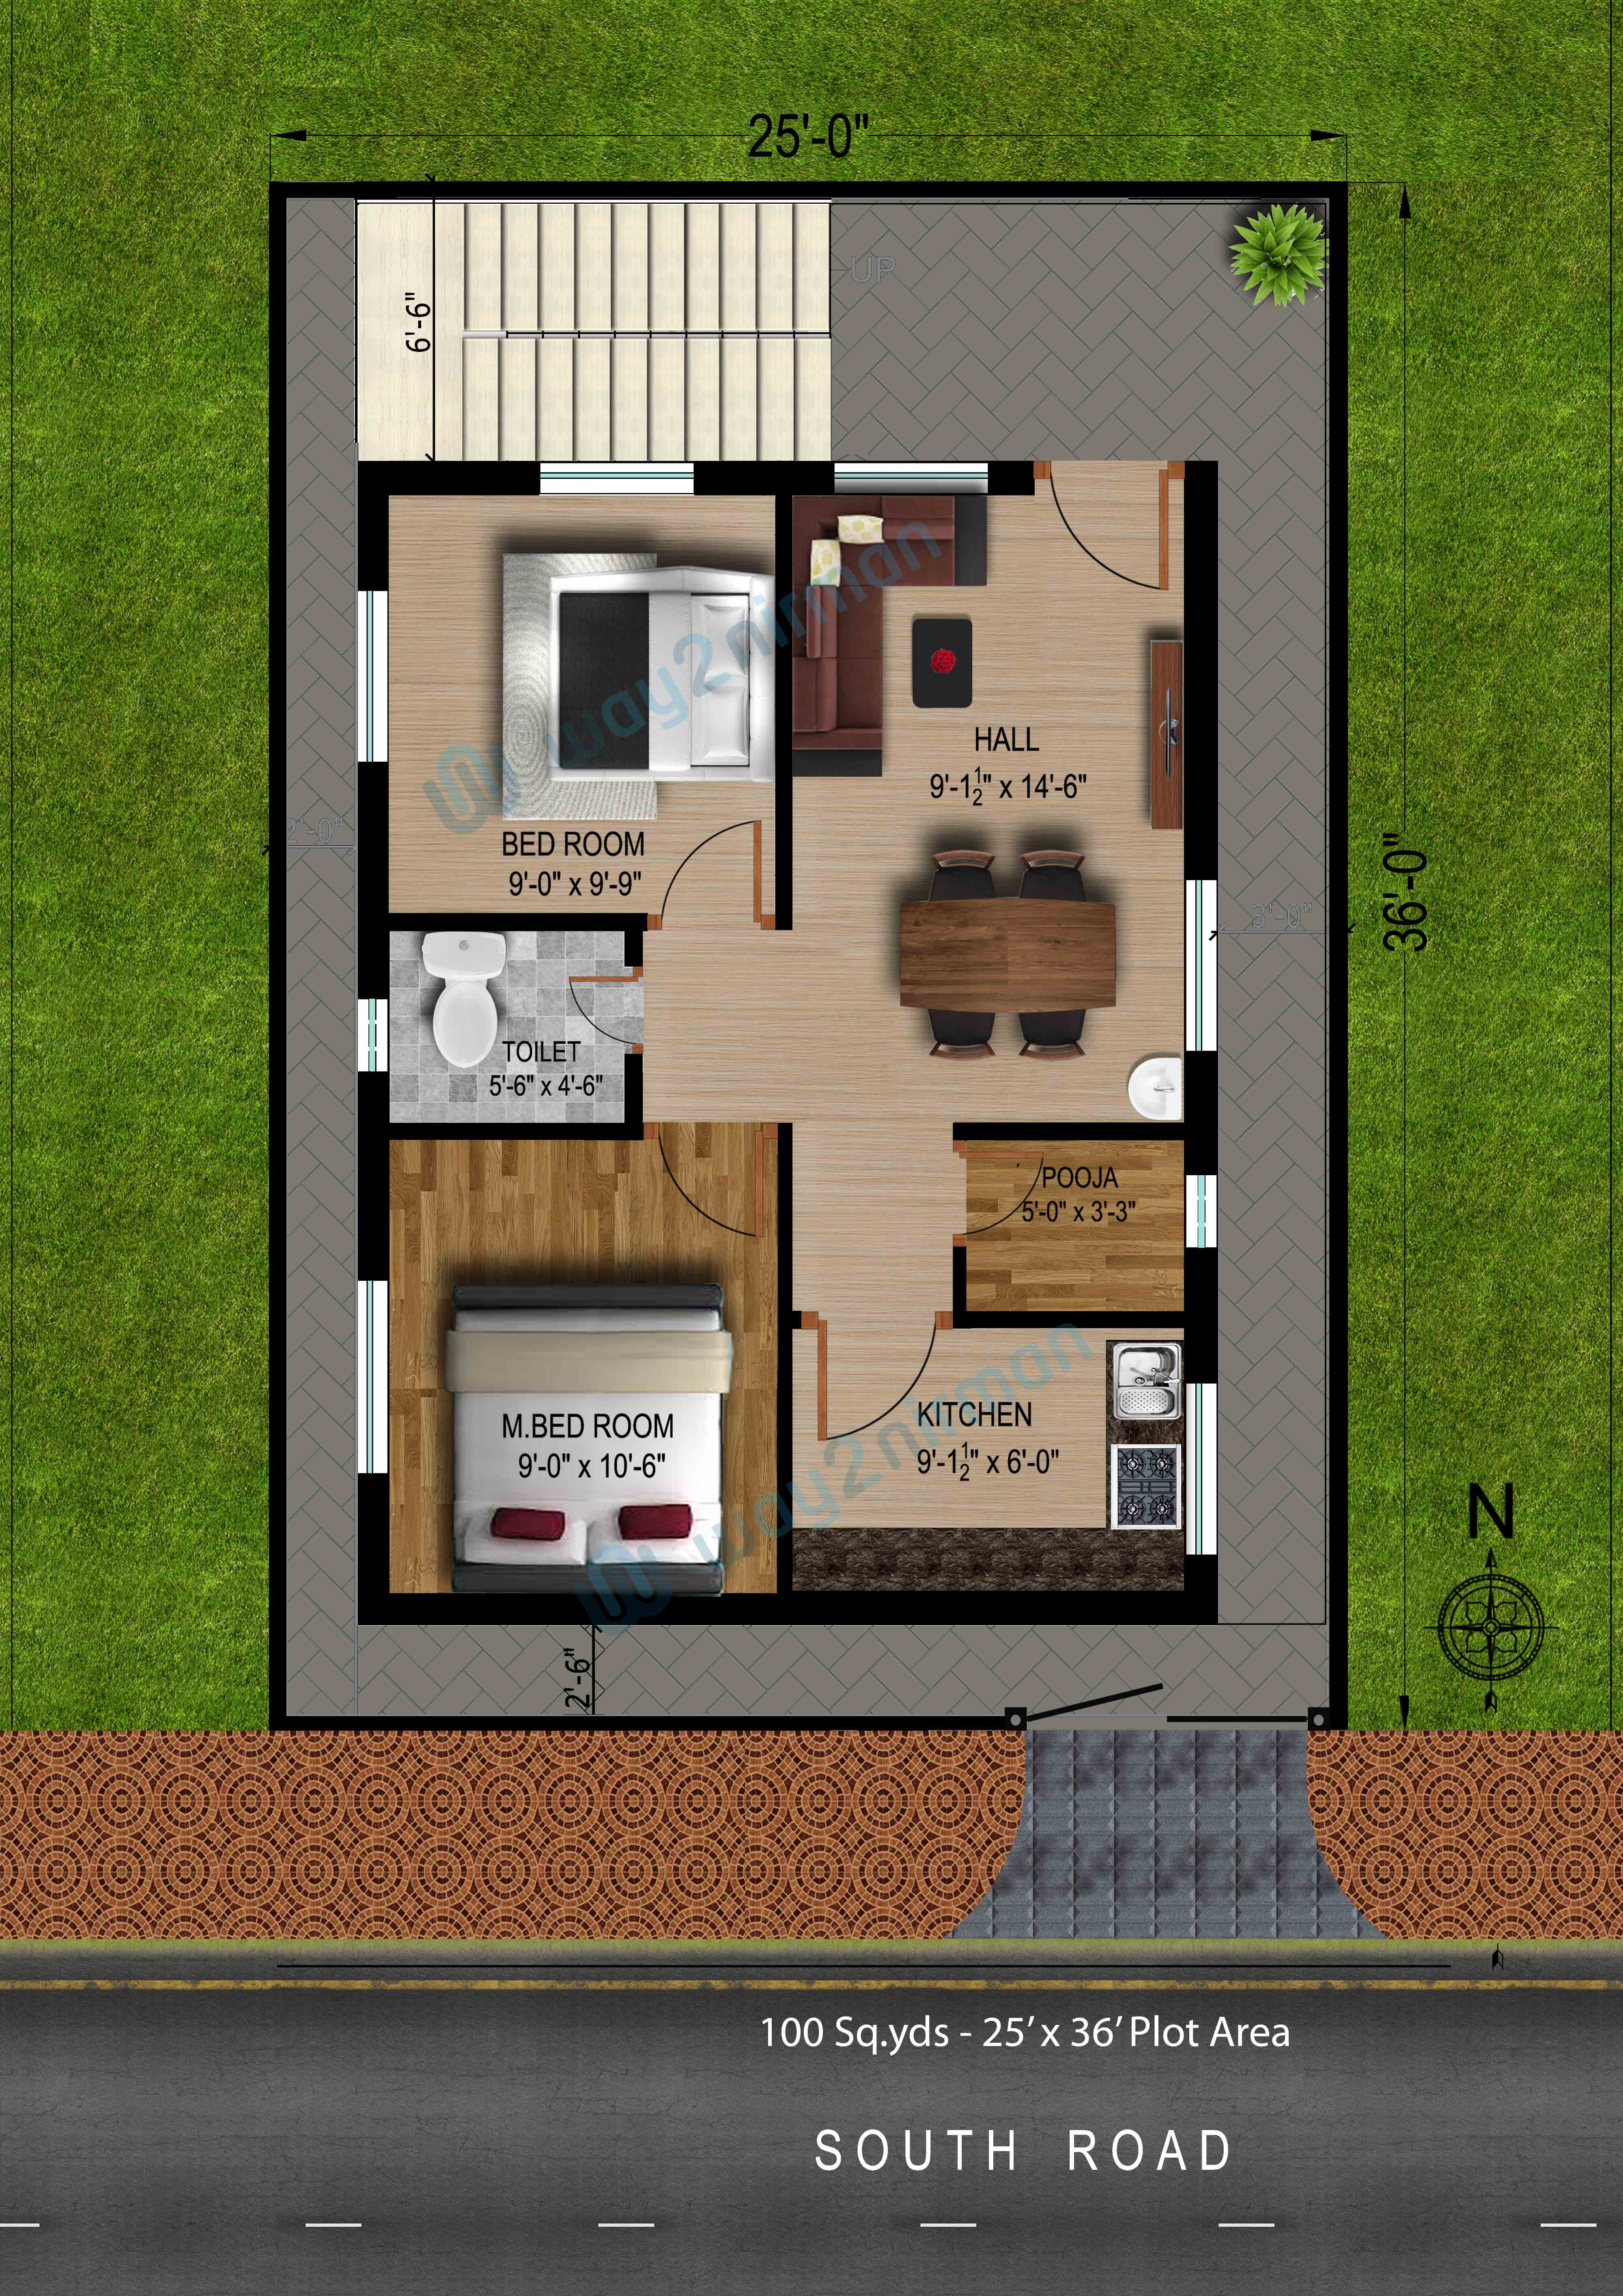window: (353, 1277, 390, 1479), (1182, 875, 1219, 1052), (1184, 1381, 1219, 1560), (357, 588, 390, 766), (537, 458, 697, 495), (831, 458, 991, 495), (355, 994, 392, 1080), (1182, 1172, 1219, 1253)
